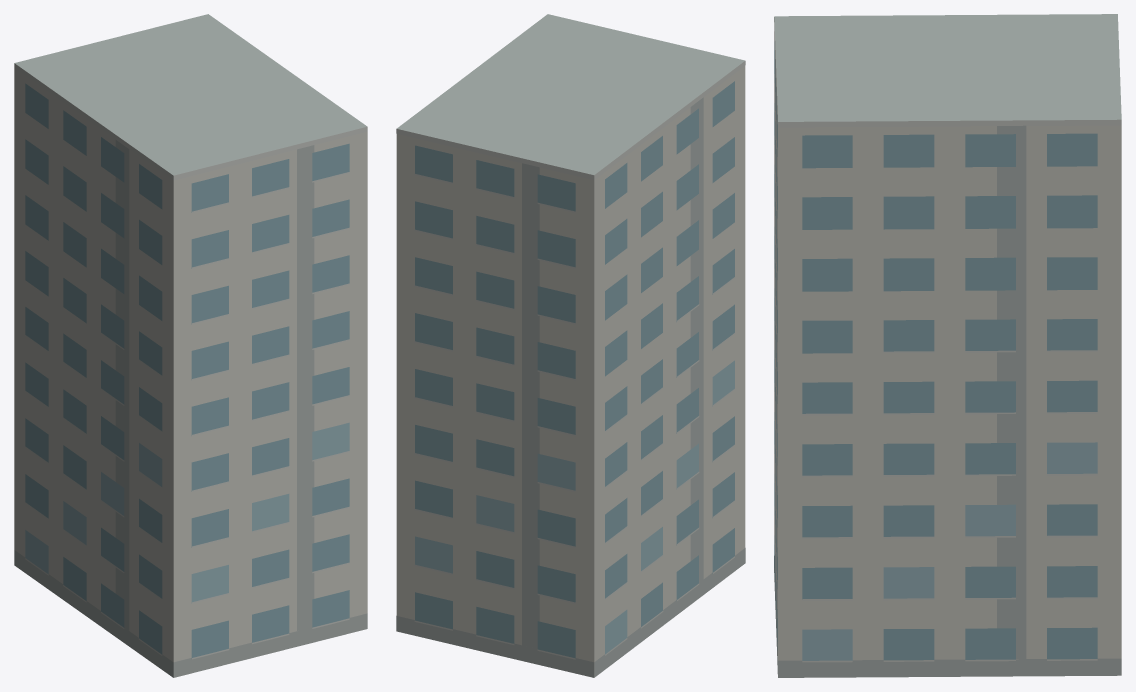
File: residential-9259d10a-09d9-410c-b52e-7c767d7900f8.glb
3 renders of one model, left to right at view 1: azimuth 30°, elevation 25°; view 2: azimuth 150°, elevation 25°; view 3: azimuth 270°, elevation 25°, orthographic. The views are drawn at different scales.
Visible parts, largest first — view 1: residential-9259d10a-09d9-410c-b52e-7c767d7900f8.tmp; view 2: residential-9259d10a-09d9-410c-b52e-7c767d7900f8.tmp; view 3: residential-9259d10a-09d9-410c-b52e-7c767d7900f8.tmp.
Part boxes in pixels (x1,y1,x2,y2): residential-9259d10a-09d9-410c-b52e-7c767d7900f8.tmp: (14, 14, 367, 677); residential-9259d10a-09d9-410c-b52e-7c767d7900f8.tmp: (396, 14, 745, 677); residential-9259d10a-09d9-410c-b52e-7c767d7900f8.tmp: (774, 14, 1121, 677).
Bounding box in the file's own units: 10.42 × 25 × 14.17.
